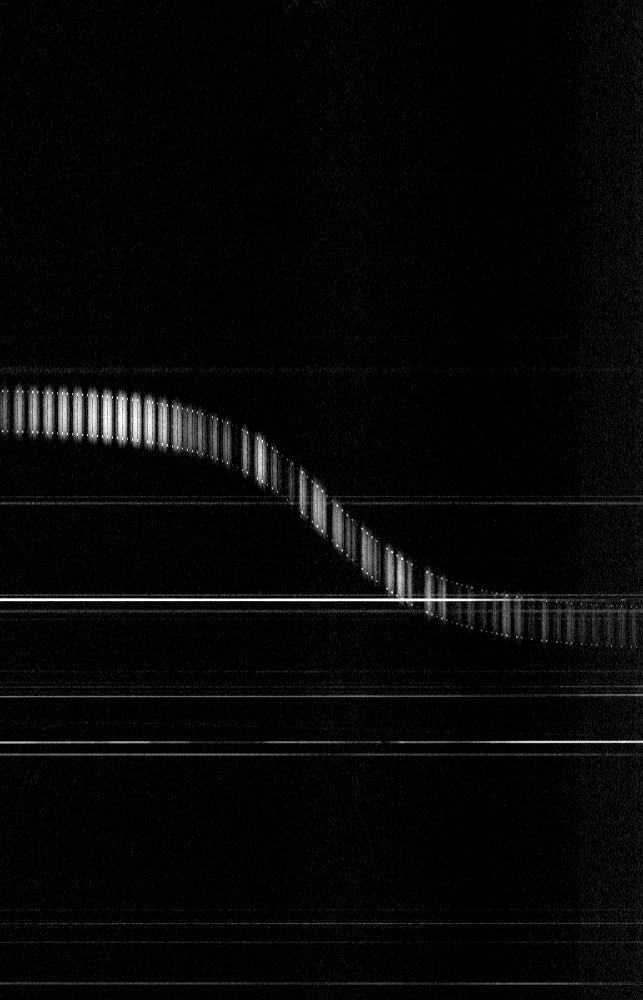signal: (0, 0, 642, 999)
